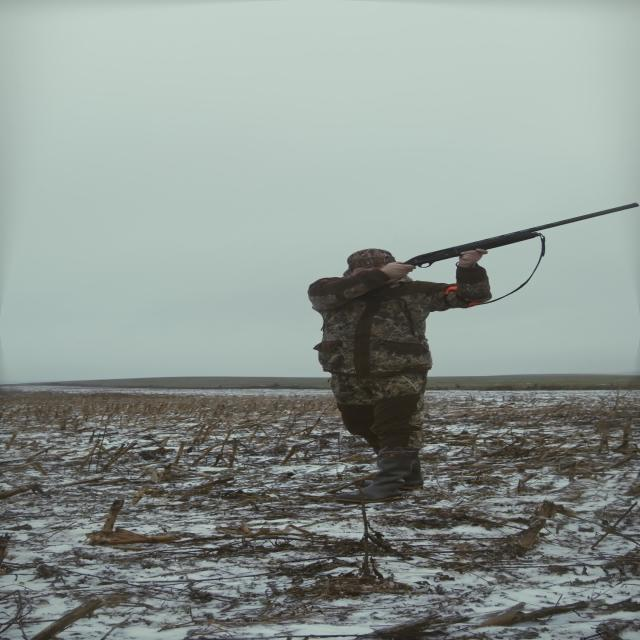ranger: (281, 214, 504, 541)
weapon: (399, 202, 582, 350)
